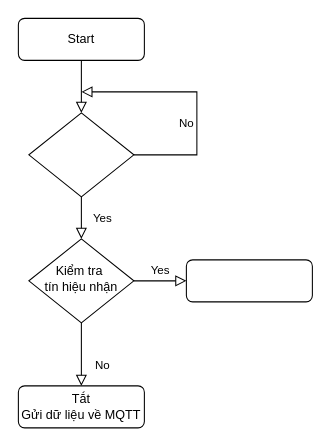
The diagram is 331 pixels wide and 446 high, and some of its shapes have lost their labels. The centre of each missing label's shape, as x and y in pixels:
"Bật Gửi dữ liệu về MQTT" belongs at [248,280].
"Nhận tín hiệu MQTT" belongs at [81,154].
